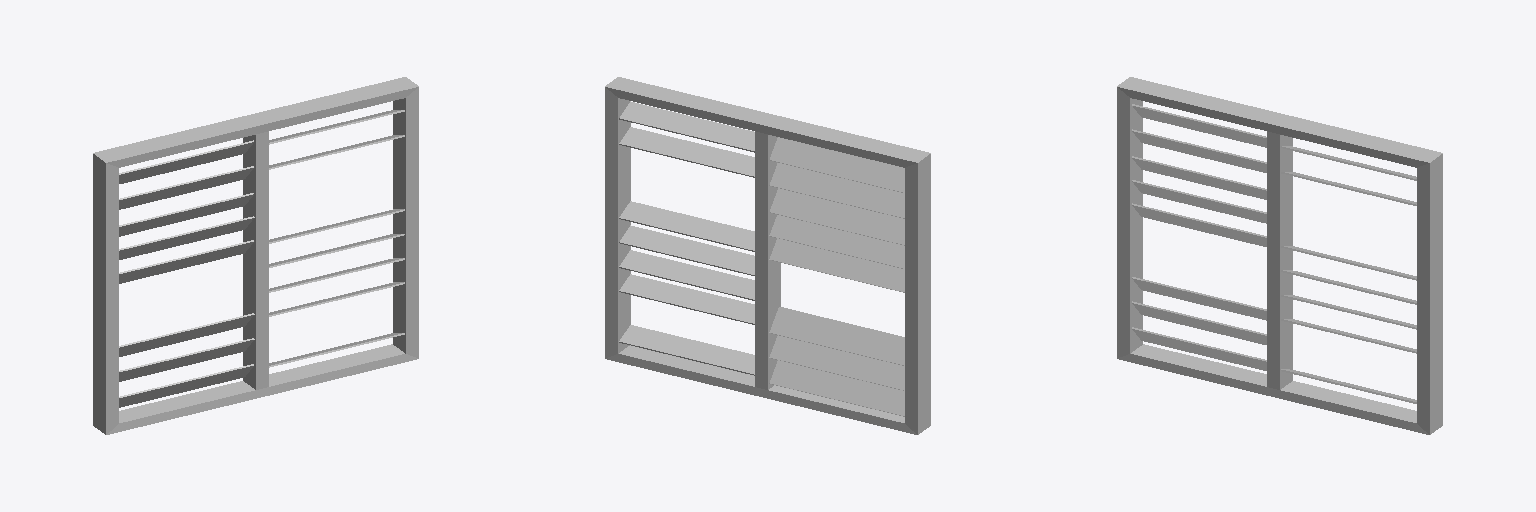
The model's file is window003.obj.
3 views of the same model, side by side, from view 1: azimuth 30°, elevation 25°; view 2: azimuth 150°, elevation 25°; view 3: azimuth 330°, elevation 25° (orthographic).
Parts seen in each view (by area): view 1: window.003_Cube.006; view 2: window.003_Cube.006; view 3: window.003_Cube.006.
Boxes of the visible parts, x1=… form: window.003_Cube.006: x1=93, y1=77, x2=418, y2=434; window.003_Cube.006: x1=605, y1=77, x2=930, y2=434; window.003_Cube.006: x1=1117, y1=77, x2=1442, y2=434.
Size of the model in its own units: 3.39 by 2.81 by 0.2548.